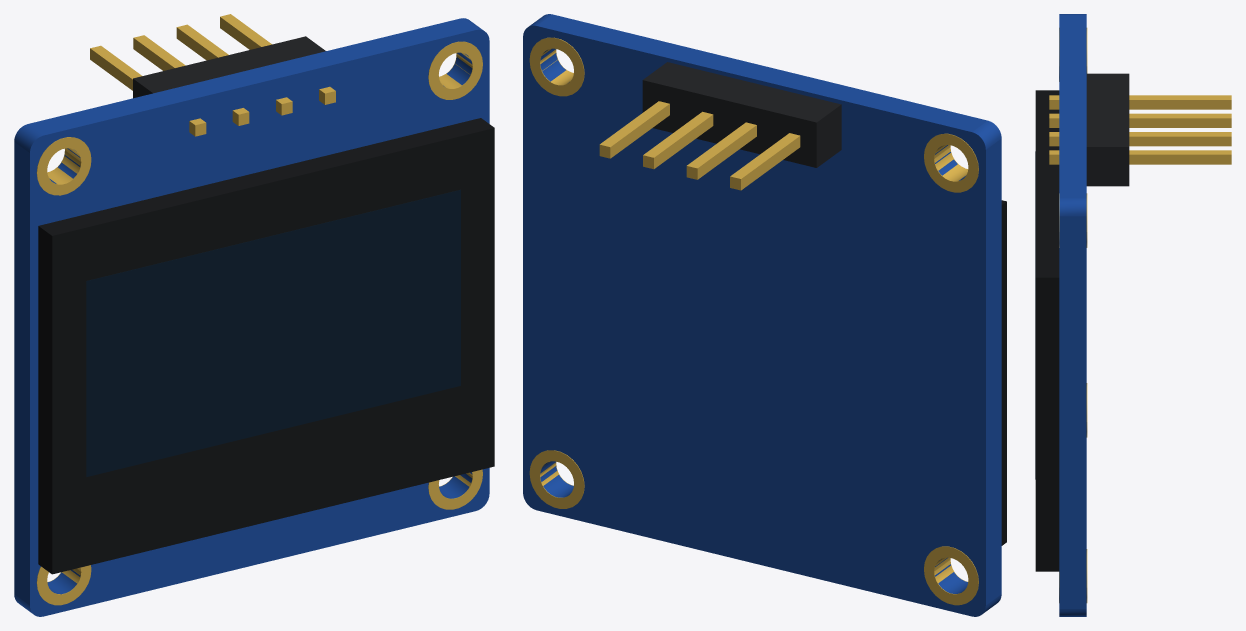
File: oled-096.glb
The picture shows the model from 3 angles, left to right: view 1: azimuth 30°, elevation 25°; view 2: azimuth 150°, elevation 25°; view 3: azimuth 270°, elevation 25°; orthographic projection. The views are drawn at different scales.
Visible parts, largest first — view 1: display_1, display_1_active, board, header_2_pins, header_2, hole_3, hole_4, hole_1, hole_2; view 2: board, header_2, header_2_pins, hole_3, display_1, hole_1, hole_4, hole_2; view 3: board, display_1, header_2_pins, header_2, display_1_active.
Part boxes in pixels (x1,y1,x2,y2): display_1: (38,118,494,574); display_1_active: (86,189,460,476); board: (14,18,489,616); header_2_pins: (90,14,335,136); header_2: (133,36,325,98); hole_3: (36,137,91,195); hole_4: (428,41,482,99); hole_1: (36,565,91,605); hole_2: (428,469,482,509); board: (523,14,1001,616); header_2: (642,62,841,167); header_2_pins: (599,101,800,190); hole_3: (924,133,978,192); display_1: (1001,200,1006,545); hole_1: (924,546,978,605); hole_4: (529,37,584,96); hole_2: (529,450,584,508); board: (1059,14,1086,616); display_1: (1035,90,1059,571); header_2_pins: (1049,95,1231,164); header_2: (1086,73,1129,186); display_1_active: (1035,151,1035,479).
Size of the model in its own units: 27 by 27 by 11.52.
